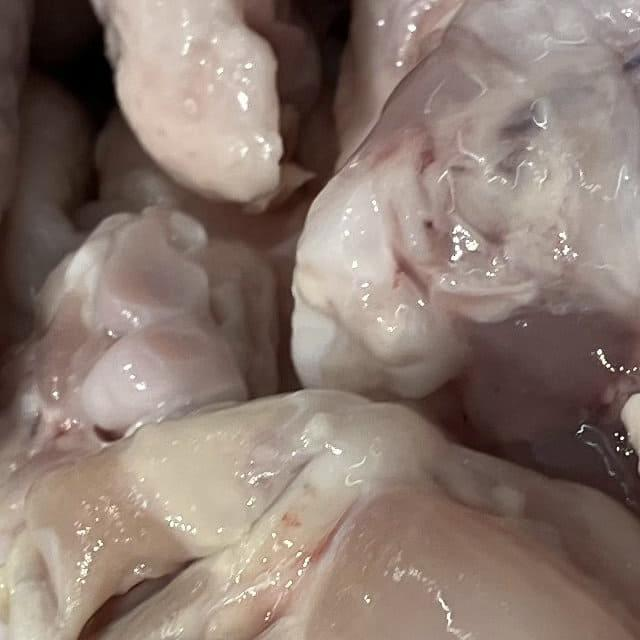chicken: (260, 0, 640, 383), (167, 401, 640, 640)
